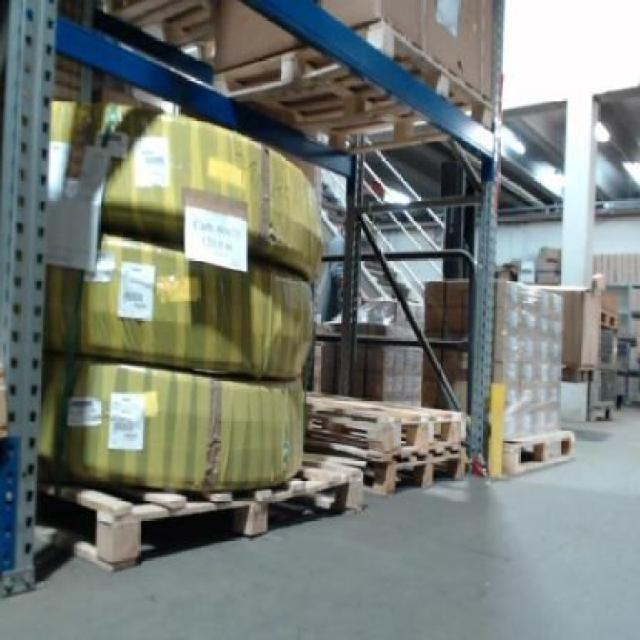floor: (0, 408, 637, 637)
pallets: (52, 357, 302, 489), (305, 394, 463, 491)
